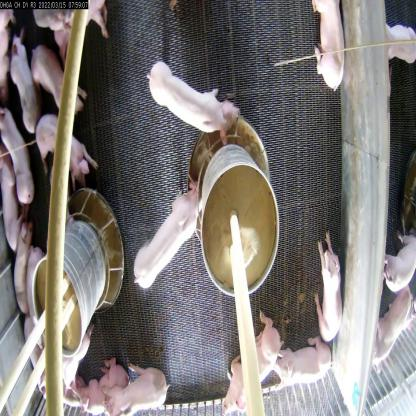Pig: (143, 47, 243, 140), (132, 179, 209, 299), (106, 350, 182, 416), (216, 323, 280, 399), (32, 113, 94, 177), (33, 40, 79, 123), (0, 105, 37, 205), (314, 232, 346, 347), (313, 1, 349, 100), (9, 26, 44, 126), (278, 336, 329, 404)
